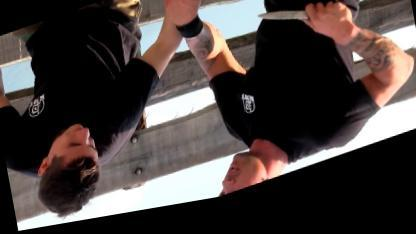knife: (253, 0, 354, 58)
